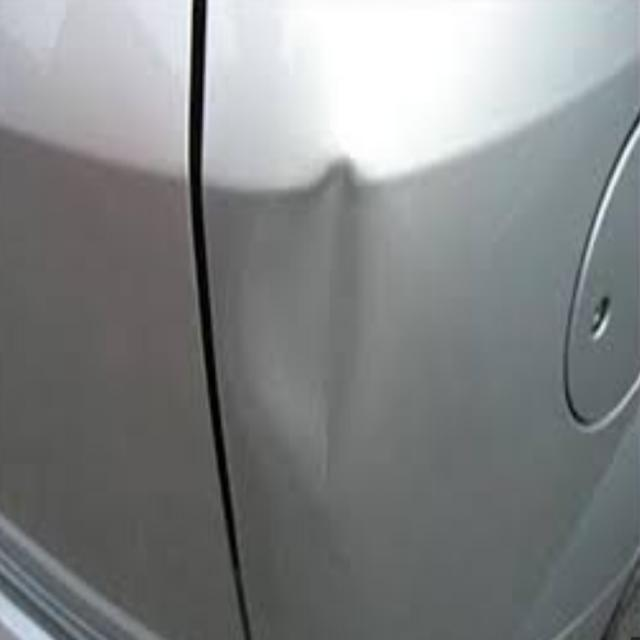dents: (229, 149, 387, 473)
